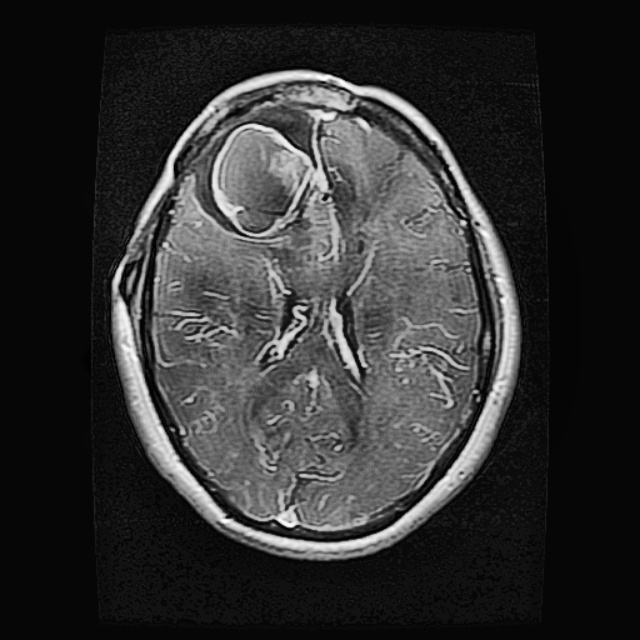Meningioma: (193, 103, 345, 262)
